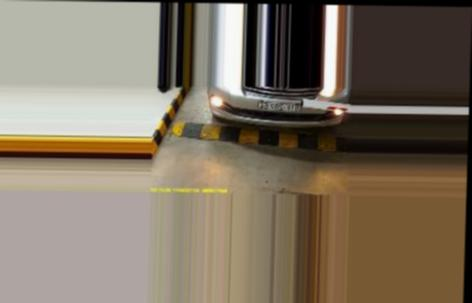License_Plate: (257, 100, 301, 115)
